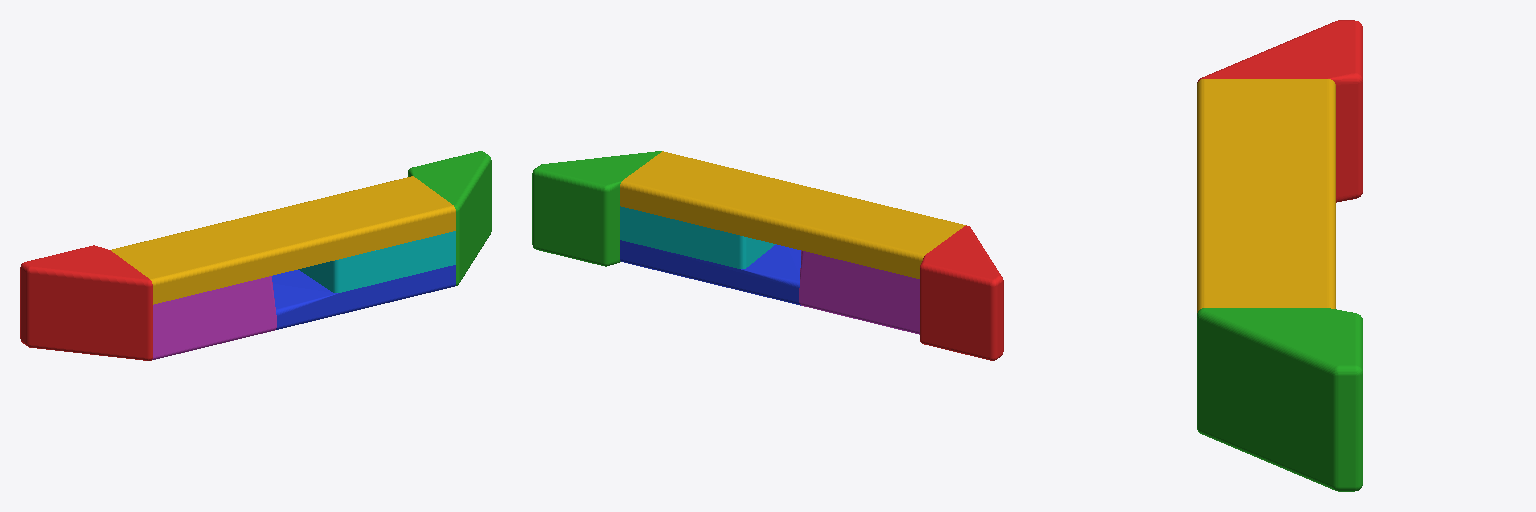
robot.urdf — beam_0_coacd:
<?xml version="1.0"?>
<robot name="beam_0_coacd">
  <material name="color_0"><color rgba="0.9 0.2 0.2 1.0"/></material>
  <material name="color_1"><color rgba="0.2 0.7 0.2 1.0"/></material>
  <material name="color_2"><color rgba="0.2 0.3 0.9 1.0"/></material>
  <material name="color_3"><color rgba="0.9 0.7 0.1 1.0"/></material>
  <material name="color_4"><color rgba="0.8 0.3 0.8 1.0"/></material>
  <material name="color_5"><color rgba="0.1 0.8 0.8 1.0"/></material>
  <link name="base_link">
    <inertial>
      <density value="1250.0"/>
    </inertial>
  </link>
  <link name="hull_0">
    <visual>
      <origin xyz="0 0 0" rpy="0 0 0"/>
      <geometry>
        <mesh filename="decomp_0.obj" scale="1 1 1"/>
      </geometry>
      <material name="color_0"/>
    </visual>
    <collision>
      <origin xyz="0 0 0" rpy="0 0 0"/>
      <geometry>
        <mesh filename="decomp_0.obj" scale="1 1 1"/>
      </geometry>
    </collision>
    <inertial>
      <mass value="0.001"/>
      <inertia ixx="1e-6" ixy="0" ixz="0" iyy="1e-6" iyz="0" izz="1e-6"/>
    </inertial>
  </link>
  <joint name="hull_joint_0" type="fixed">
    <parent link="base_link"/>
    <child link="hull_0"/>
    <origin xyz="0 0 0" rpy="0 0 0"/>
  </joint>
  <link name="hull_1">
    <visual>
      <origin xyz="0 0 0" rpy="0 0 0"/>
      <geometry>
        <mesh filename="decomp_1.obj" scale="1 1 1"/>
      </geometry>
      <material name="color_1"/>
    </visual>
    <collision>
      <origin xyz="0 0 0" rpy="0 0 0"/>
      <geometry>
        <mesh filename="decomp_1.obj" scale="1 1 1"/>
      </geometry>
    </collision>
    <inertial>
      <mass value="0.001"/>
      <inertia ixx="1e-6" ixy="0" ixz="0" iyy="1e-6" iyz="0" izz="1e-6"/>
    </inertial>
  </link>
  <joint name="hull_joint_1" type="fixed">
    <parent link="base_link"/>
    <child link="hull_1"/>
    <origin xyz="0 0 0" rpy="0 0 0"/>
  </joint>
  <link name="hull_2">
    <visual>
      <origin xyz="0 0 0" rpy="0 0 0"/>
      <geometry>
        <mesh filename="decomp_2.obj" scale="1 1 1"/>
      </geometry>
      <material name="color_2"/>
    </visual>
    <collision>
      <origin xyz="0 0 0" rpy="0 0 0"/>
      <geometry>
        <mesh filename="decomp_2.obj" scale="1 1 1"/>
      </geometry>
    </collision>
    <inertial>
      <mass value="0.001"/>
      <inertia ixx="1e-6" ixy="0" ixz="0" iyy="1e-6" iyz="0" izz="1e-6"/>
    </inertial>
  </link>
  <joint name="hull_joint_2" type="fixed">
    <parent link="base_link"/>
    <child link="hull_2"/>
    <origin xyz="0 0 0" rpy="0 0 0"/>
  </joint>
  <link name="hull_3">
    <visual>
      <origin xyz="0 0 0" rpy="0 0 0"/>
      <geometry>
        <mesh filename="decomp_3.obj" scale="1 1 1"/>
      </geometry>
      <material name="color_3"/>
    </visual>
    <collision>
      <origin xyz="0 0 0" rpy="0 0 0"/>
      <geometry>
        <mesh filename="decomp_3.obj" scale="1 1 1"/>
      </geometry>
    </collision>
    <inertial>
      <mass value="0.001"/>
      <inertia ixx="1e-6" ixy="0" ixz="0" iyy="1e-6" iyz="0" izz="1e-6"/>
    </inertial>
  </link>
  <joint name="hull_joint_3" type="fixed">
    <parent link="base_link"/>
    <child link="hull_3"/>
    <origin xyz="0 0 0" rpy="0 0 0"/>
  </joint>
  <link name="hull_4">
    <visual>
      <origin xyz="0 0 0" rpy="0 0 0"/>
      <geometry>
        <mesh filename="decomp_4.obj" scale="1 1 1"/>
      </geometry>
      <material name="color_4"/>
    </visual>
    <collision>
      <origin xyz="0 0 0" rpy="0 0 0"/>
      <geometry>
        <mesh filename="decomp_4.obj" scale="1 1 1"/>
      </geometry>
    </collision>
    <inertial>
      <mass value="0.001"/>
      <inertia ixx="1e-6" ixy="0" ixz="0" iyy="1e-6" iyz="0" izz="1e-6"/>
    </inertial>
  </link>
  <joint name="hull_joint_4" type="fixed">
    <parent link="base_link"/>
    <child link="hull_4"/>
    <origin xyz="0 0 0" rpy="0 0 0"/>
  </joint>
  <link name="hull_5">
    <visual>
      <origin xyz="0 0 0" rpy="0 0 0"/>
      <geometry>
        <mesh filename="decomp_5.obj" scale="1 1 1"/>
      </geometry>
      <material name="color_5"/>
    </visual>
    <collision>
      <origin xyz="0 0 0" rpy="0 0 0"/>
      <geometry>
        <mesh filename="decomp_5.obj" scale="1 1 1"/>
      </geometry>
    </collision>
    <inertial>
      <mass value="0.001"/>
      <inertia ixx="1e-6" ixy="0" ixz="0" iyy="1e-6" iyz="0" izz="1e-6"/>
    </inertial>
  </link>
  <joint name="hull_joint_5" type="fixed">
    <parent link="base_link"/>
    <child link="hull_5"/>
    <origin xyz="0 0 0" rpy="0 0 0"/>
  </joint>
</robot>

--- Render facts (derived) ---
3 views of the same robot in one strip: view 1: azimuth 30°, elevation 25°; view 2: azimuth 150°, elevation 25°; view 3: azimuth 270°, elevation 25° (orthographic).
Robot: beam_0_coacd — 7 links, 6 joints (6 fixed); root link base_link; default pose: all joints at 0.
Visible links, largest first — view 1: hull_3, hull_0, hull_4, hull_2, hull_1, hull_5; view 2: hull_3, hull_1, hull_0, hull_4, hull_2, hull_5; view 3: hull_3, hull_1, hull_0.
Link boxes in pixels (bbox=[...]): hull_3: bbox=[111, 176, 455, 304]; hull_0: bbox=[20, 245, 152, 360]; hull_4: bbox=[152, 276, 276, 359]; hull_2: bbox=[272, 265, 455, 329]; hull_1: bbox=[408, 151, 491, 285]; hull_5: bbox=[298, 231, 455, 292]; hull_3: bbox=[620, 151, 965, 278]; hull_1: bbox=[532, 151, 661, 266]; hull_0: bbox=[920, 225, 1003, 360]; hull_4: bbox=[799, 250, 919, 334]; hull_2: bbox=[620, 240, 800, 305]; hull_5: bbox=[620, 206, 775, 268]; hull_3: bbox=[1197, 79, 1335, 312]; hull_1: bbox=[1197, 308, 1362, 491]; hull_0: bbox=[1197, 20, 1362, 202].
Size in the robot's own frame: 0.2286 by 0.0457 by 0.0381 metres.
6 mesh visuals loaded from 6 distinct referenced files (6 OBJ).
